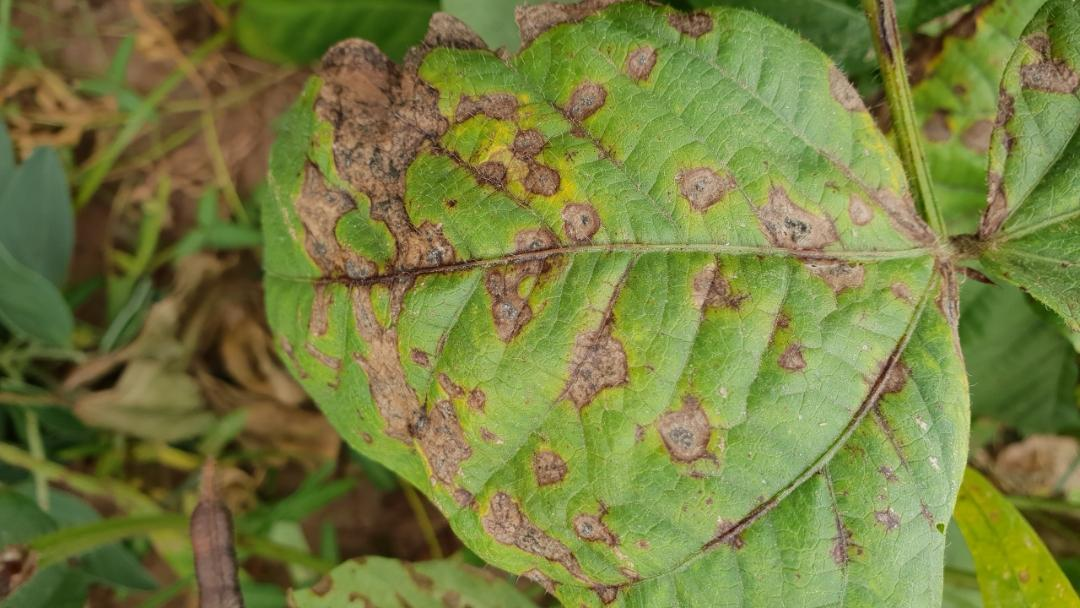black-spot: (459, 69, 837, 469)
